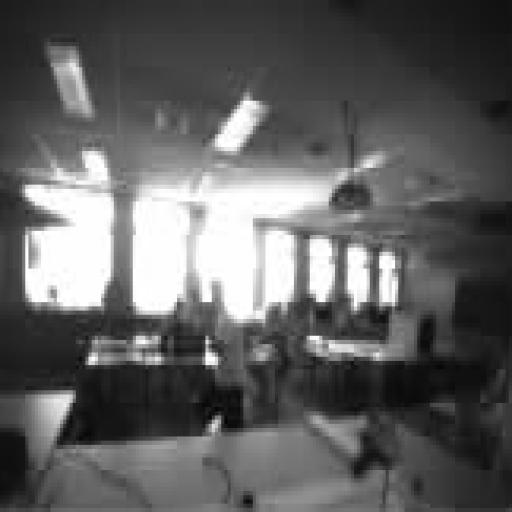human: (200, 282, 246, 428), (162, 282, 205, 356)
